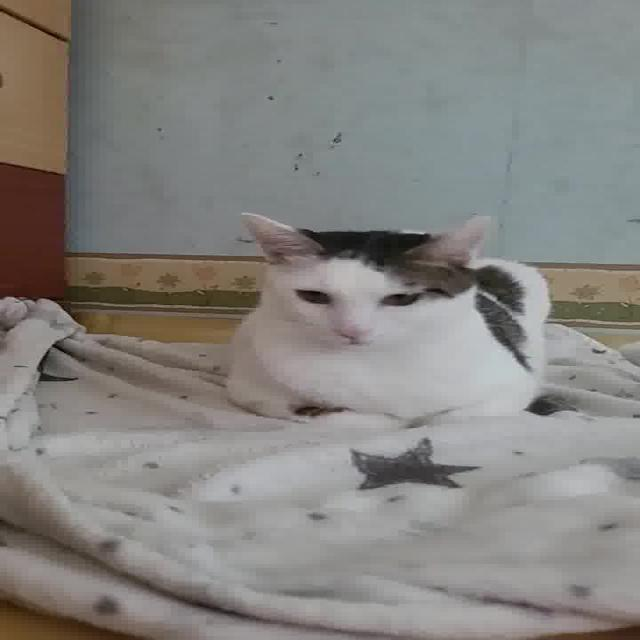cat: (202, 205, 572, 431)
